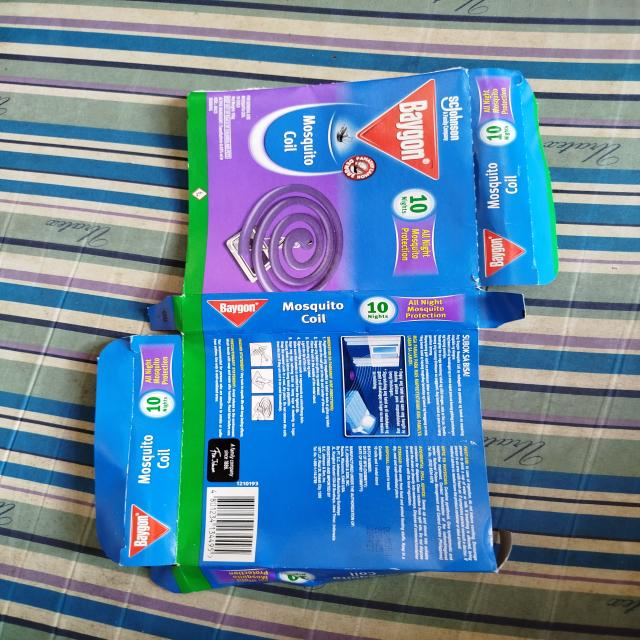paper: (90, 68, 568, 592)
